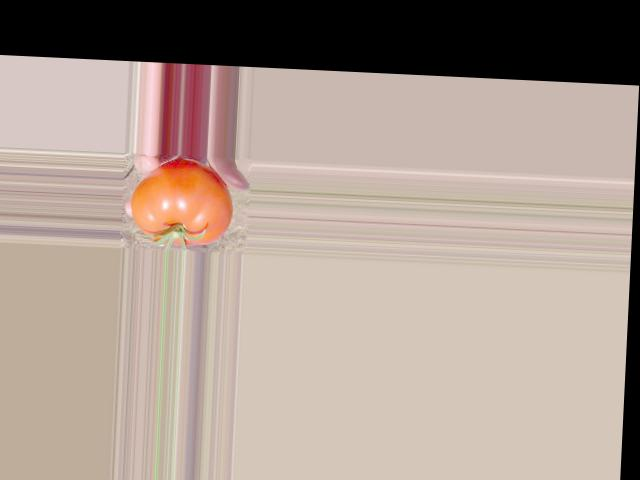tomato: (129, 156, 233, 247)
